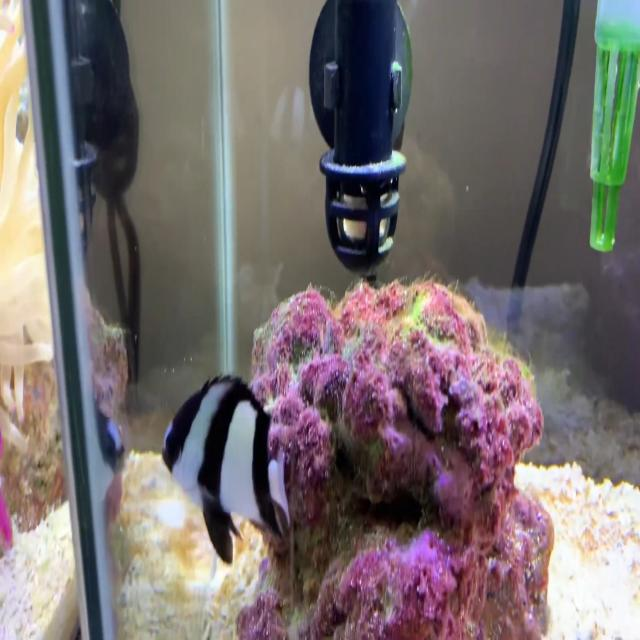ThreeStripedDamselfish: (162, 375, 291, 565)
